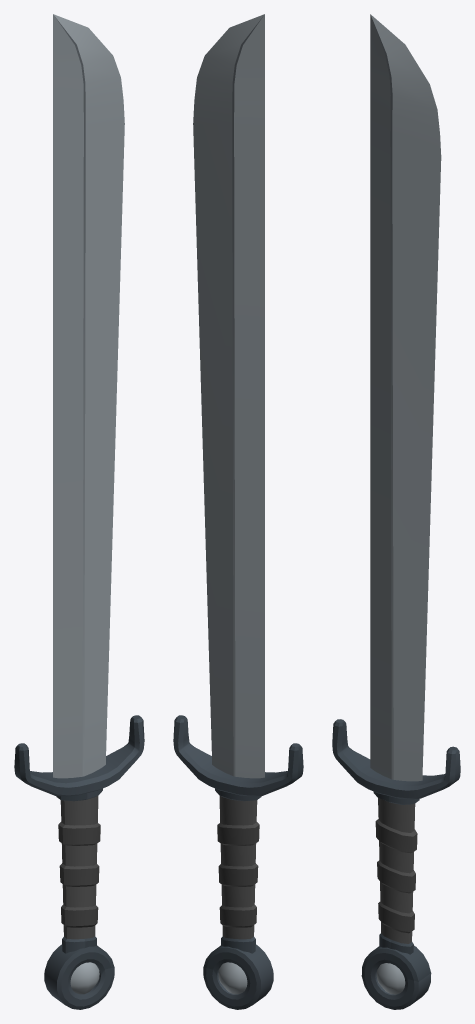
The model's file is SM_Sword09_Falchion_1.fbx.
3 views of the same model, side by side, from view 1: azimuth 30°, elevation 25°; view 2: azimuth 150°, elevation 25°; view 3: azimuth 330°, elevation 25° (orthographic).
Visible parts, largest first — view 1: Cube.039, Cylinder.472, Cube.042, Cylinder.034, Sphere.010; view 2: Cube.039, Cylinder.472, Cube.042, Cylinder.034, Sphere.010; view 3: Cube.039, Cylinder.472, Cube.042, Cylinder.034, Sphere.010.
Part boxes in pixels (x1=…): Cube.039: x1=53, y1=14, x2=124, y2=778; Cylinder.472: x1=56, y1=788, x2=102, y2=953; Cube.042: x1=14, y1=715, x2=144, y2=796; Cylinder.034: x1=44, y1=944, x2=114, y2=1009; Sphere.010: x1=70, y1=962, x2=99, y2=994; Cube.039: x1=193, y1=14, x2=264, y2=778; Cylinder.472: x1=215, y1=788, x2=261, y2=953; Cube.042: x1=173, y1=715, x2=303, y2=796; Cylinder.034: x1=203, y1=944, x2=273, y2=1009; Sphere.010: x1=218, y1=962, x2=247, y2=994; Cube.039: x1=370, y1=14, x2=441, y2=781; Cylinder.472: x1=373, y1=791, x2=419, y2=954; Cube.042: x1=332, y1=719, x2=460, y2=799; Cylinder.034: x1=361, y1=945, x2=431, y2=1009; Sphere.010: x1=376, y1=963, x2=405, y2=994.
Size of the model in its own units: 0.1036 by 0.7919 by 0.0296.
